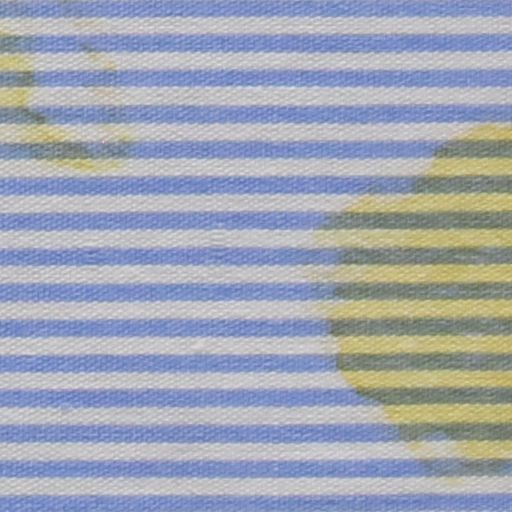defect: (332, 128, 512, 455), (1, 1, 86, 174)
